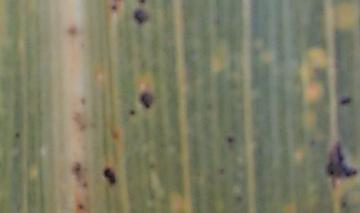tarspot: (323, 139, 357, 177), (132, 9, 150, 25), (103, 165, 117, 185), (138, 91, 153, 108), (338, 98, 350, 106), (73, 162, 80, 173), (111, 3, 118, 12), (77, 203, 86, 210), (340, 199, 346, 208), (218, 168, 225, 175), (227, 136, 233, 144), (82, 181, 88, 188), (137, 1, 147, 5), (130, 108, 135, 116), (15, 133, 21, 138)
